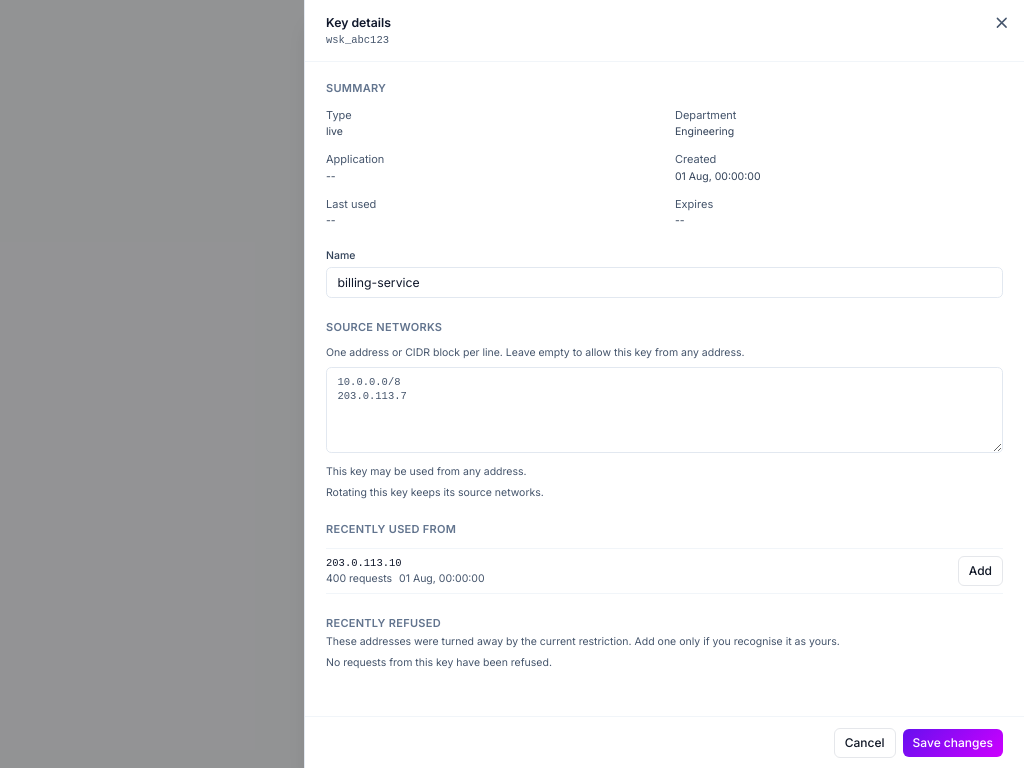
KeyDetailDrawer address panels › warns before saving a list that would cut off live traffic
The width and height of the screenshot is (1024, 768).
In the text box named "Source networks": (664, 410) x1=326 y1=367 x2=1003 y2=453, type "10.0.0.0/8"
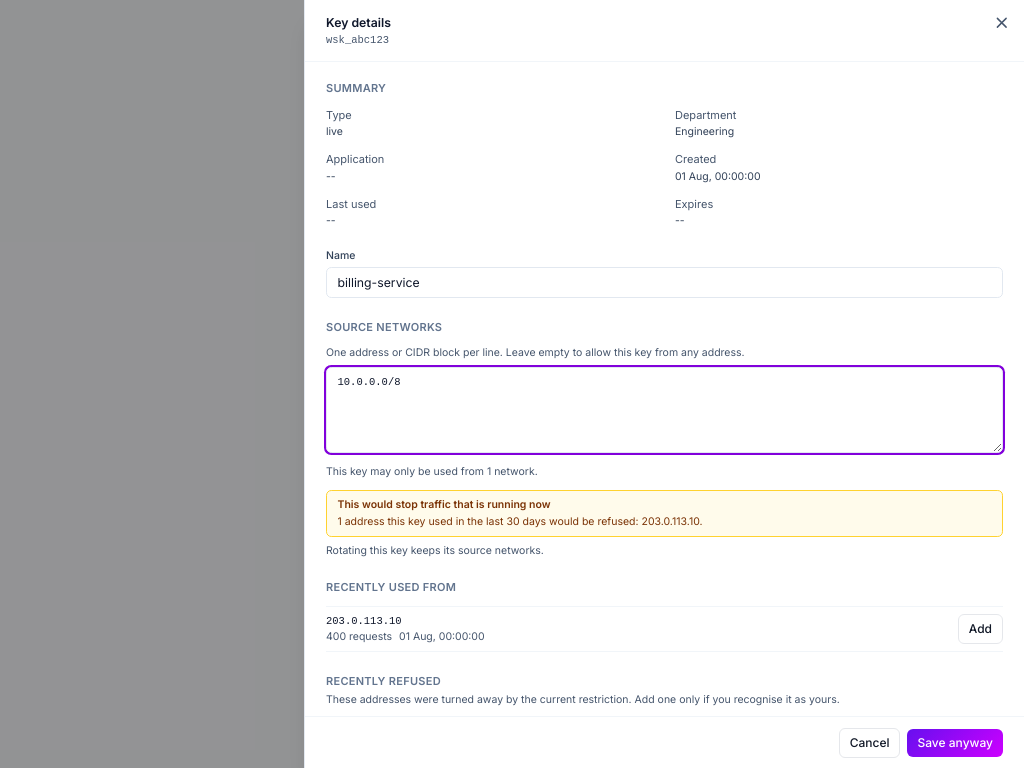
Expected: the message shows "203.0.113.10", x1=338 y1=515 x2=702 y2=528
Expected: the button "Save anyway" is shown, x1=908 y1=728 x2=1003 y2=756
